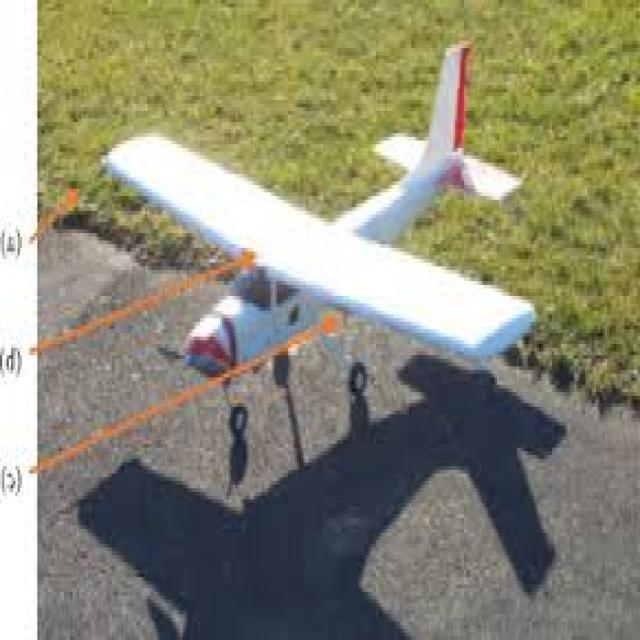iha: (35, 11, 616, 528)
